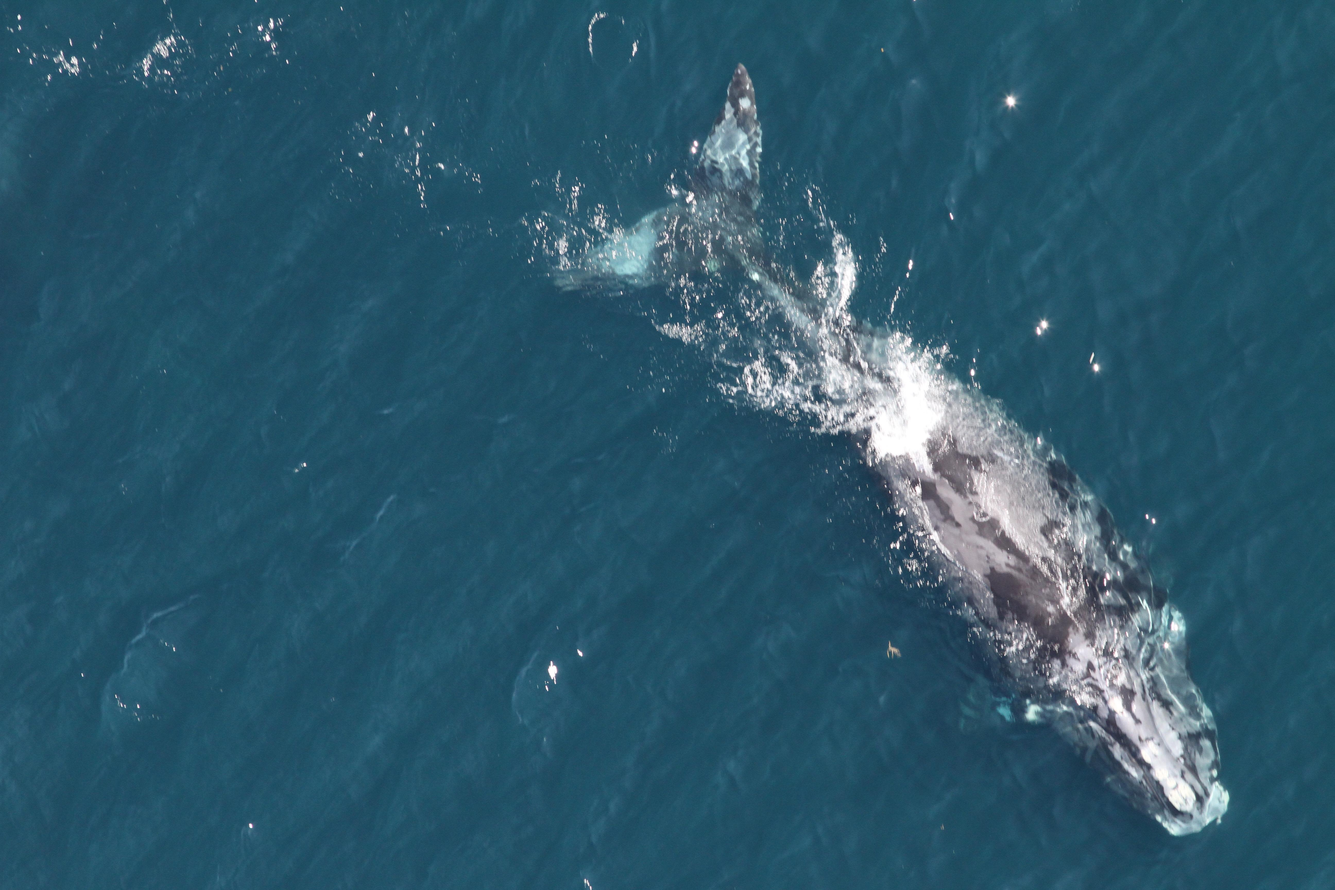whale: (527, 57, 1237, 843)
